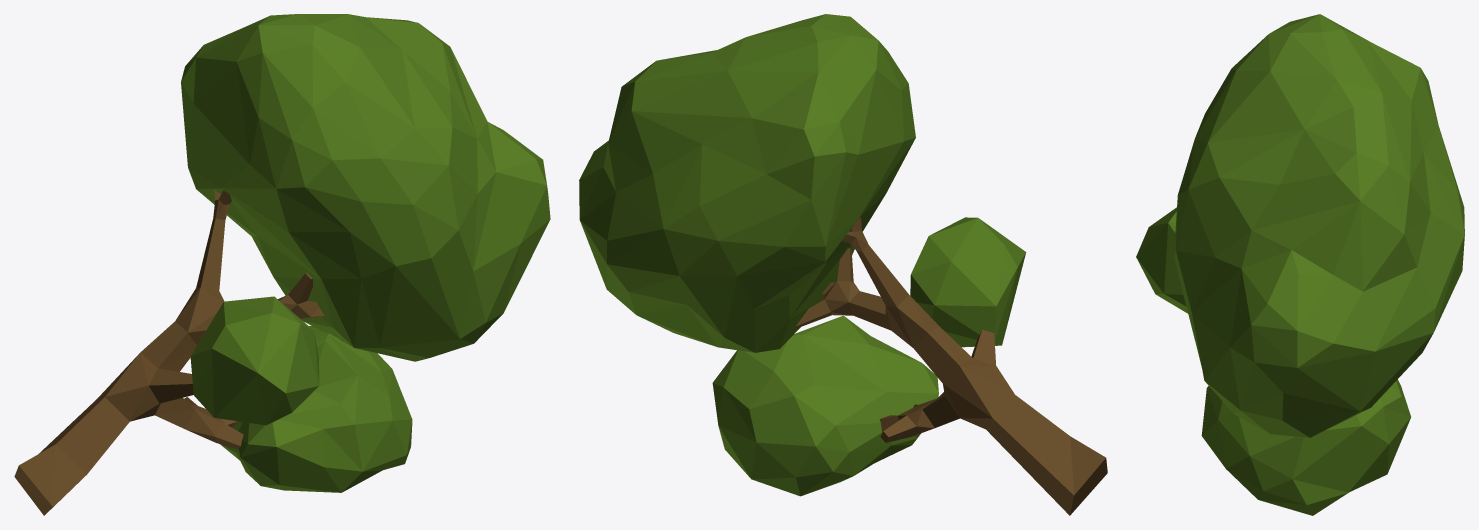
Rendered from treeFlipped.gltf.
3 views of the same model, side by side, from view 1: azimuth 30°, elevation 25°; view 2: azimuth 150°, elevation 25°; view 3: azimuth 270°, elevation 25° (orthographic). The views are drawn at different scales.
Visible parts, largest first — view 1: Tree1_1; view 2: Tree1_1; view 3: Tree1_1.
Boxes of the visible parts, box(x1,y1,x2,y2) form: Tree1_1: box(14, 14, 550, 515); Tree1_1: box(579, 14, 1107, 515); Tree1_1: box(1136, 14, 1464, 515).
Size of the model in its own units: 7.13 by 5.94 by 3.96.
